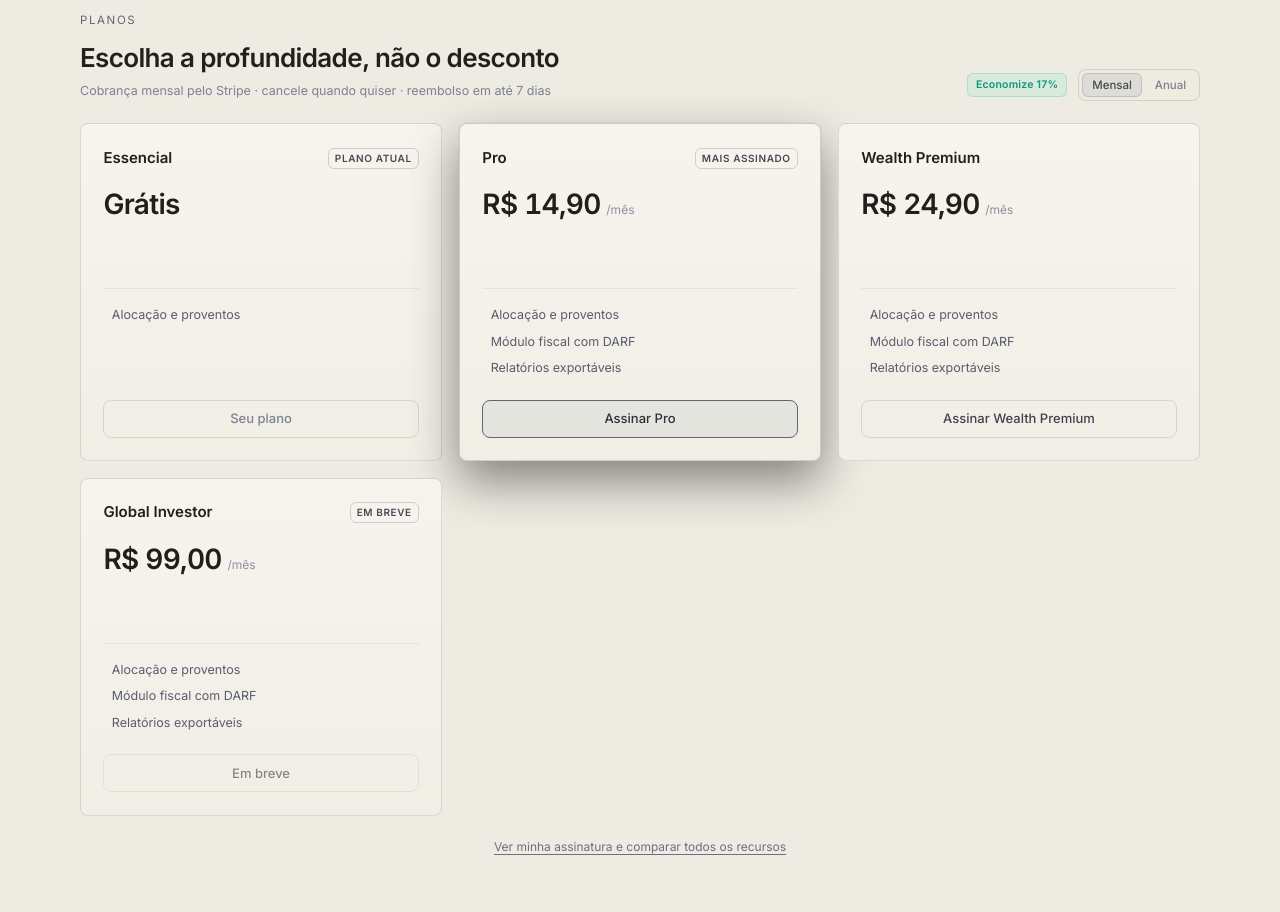
it: Plans › shows the annual price and its monthly equivalent when Stripe has one
expect the number of elements with test id "plan-card" is 4: met, box [80,123,442,461]; [459,123,821,461]; [838,123,1200,461]; [80,478,442,816]
Click the button "Anual". click: point(1170, 85)
box: [1145,73,1196,97]
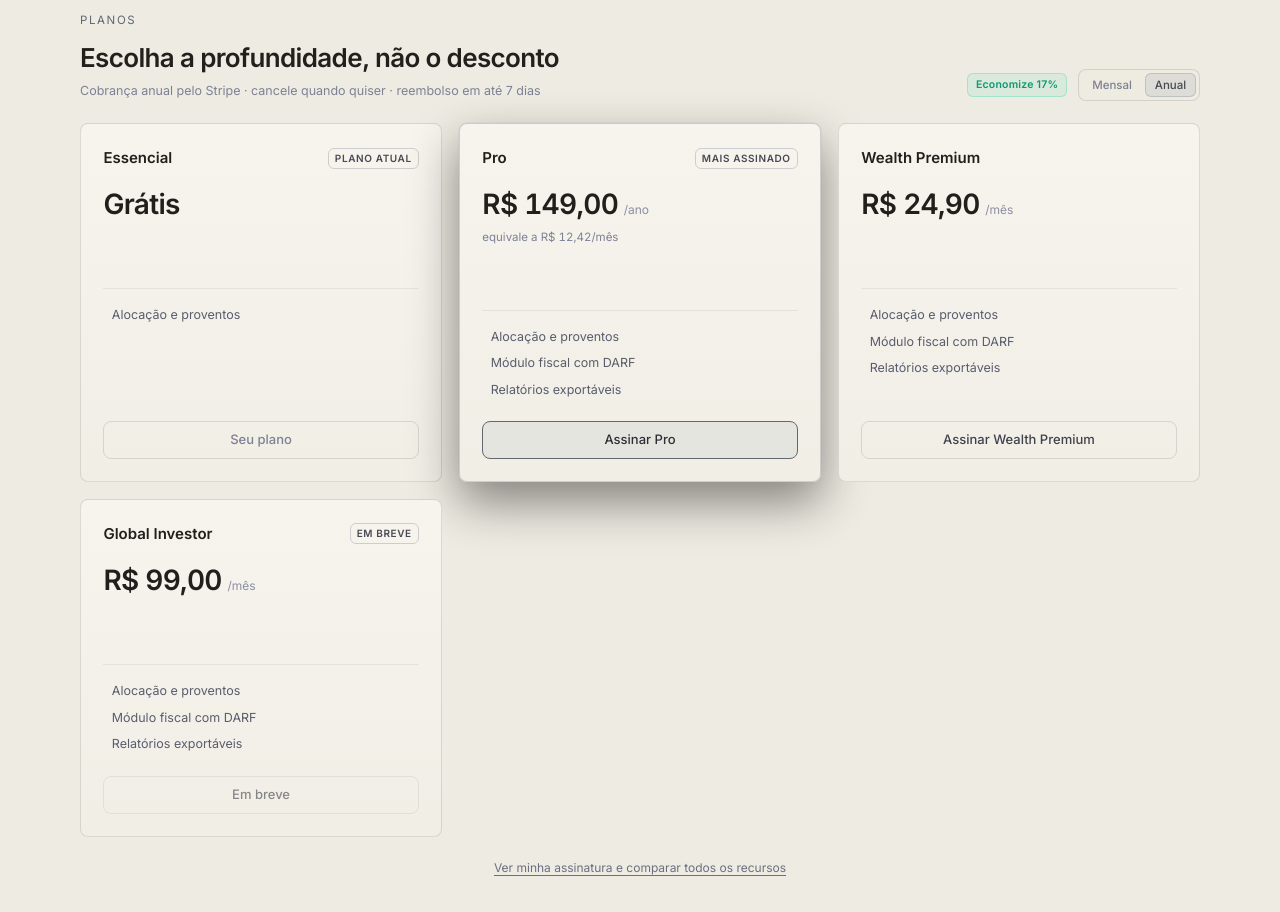
expect the text "R$ 149,00" is shown: met, box [482,183,618,225]
expect the text "/ano" is shown: met, box [624,201,649,219]
expect the text "equivale a R$ 12,42/mês" is shown: met, box [482,230,618,244]
